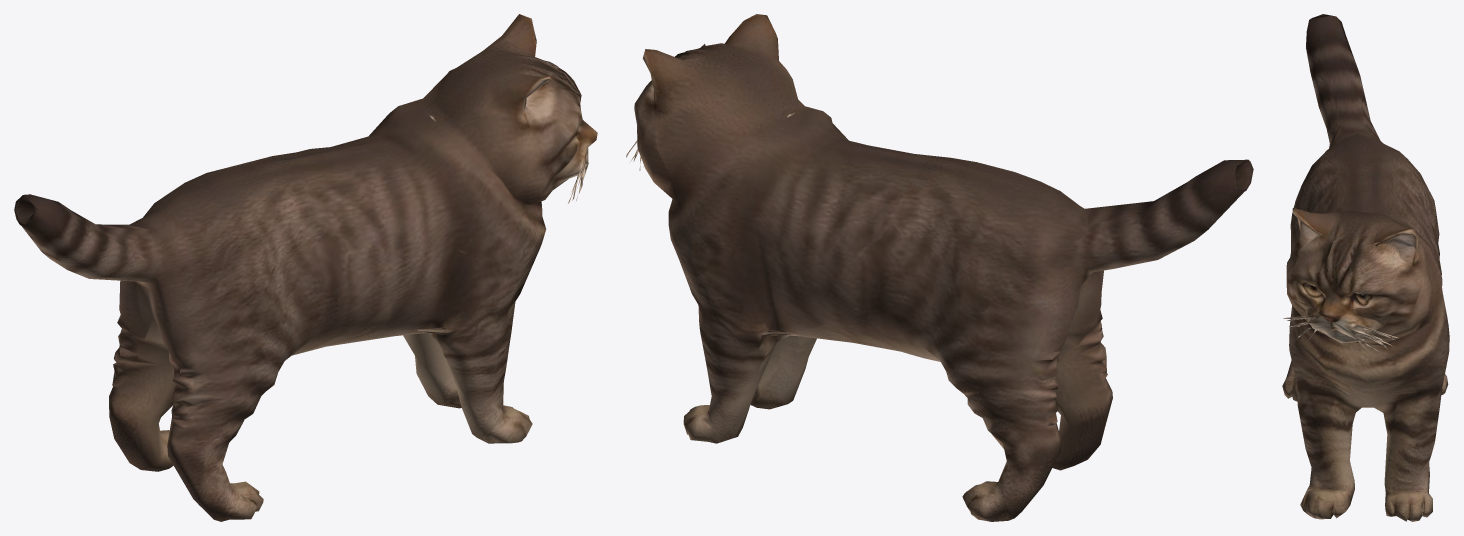
The model's file is SQUINTPAW-lo.glb.
The picture shows the model from 3 angles, left to right: view 1: azimuth 30°, elevation 25°; view 2: azimuth 150°, elevation 25°; view 3: azimuth 270°, elevation 25°; orthographic projection. The views are drawn at different scales.
Visible parts, largest first — view 1: tripo_node_2d622dc1-778e-49a1-91b9-21530d55815e; view 2: tripo_node_2d622dc1-778e-49a1-91b9-21530d55815e; view 3: tripo_node_2d622dc1-778e-49a1-91b9-21530d55815e.
Part boxes in pixels (left/top/right/bottom): tripo_node_2d622dc1-778e-49a1-91b9-21530d55815e: left=14, top=14, right=597, bottom=521; tripo_node_2d622dc1-778e-49a1-91b9-21530d55815e: left=626, top=14, right=1253, bottom=521; tripo_node_2d622dc1-778e-49a1-91b9-21530d55815e: left=1282, top=14, right=1449, bottom=521.
Size of the model in its own units: 1.63 by 0.9966 by 0.4823.
1 material, 1 textured.
